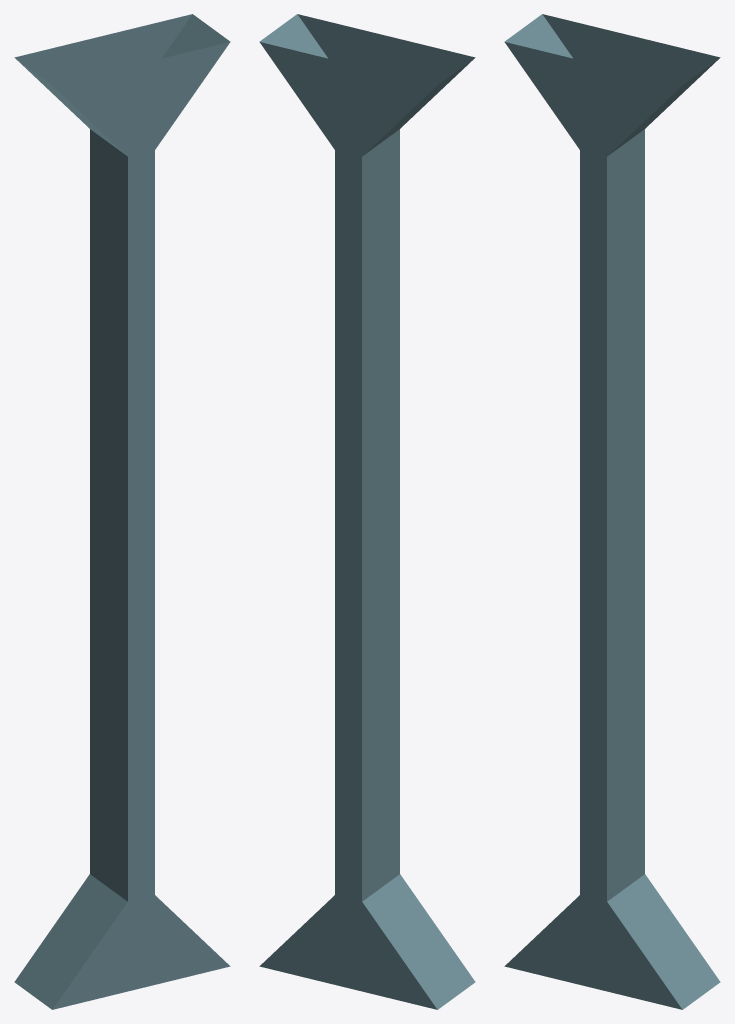
File: W1_WallWindow1_4m_Frame.fbx
3 renders of one model, left to right at view 1: azimuth 30°, elevation 25°; view 2: azimuth 150°, elevation 25°; view 3: azimuth 330°, elevation 25°, orthographic.
Parts seen in each view (by area): view 1: W1_WallWindow1_4m_Frame.001; view 2: W1_WallWindow1_4m_Frame.001; view 3: W1_WallWindow1_4m_Frame.001.
Part boxes in pixels (left/top/right/bottom): W1_WallWindow1_4m_Frame.001: left=14, top=14, right=230, bottom=1009; W1_WallWindow1_4m_Frame.001: left=259, top=14, right=475, bottom=1009; W1_WallWindow1_4m_Frame.001: left=504, top=14, right=720, bottom=1009.
Size of the model in its own units: 0.3572 by 1.77 by 0.1317.
